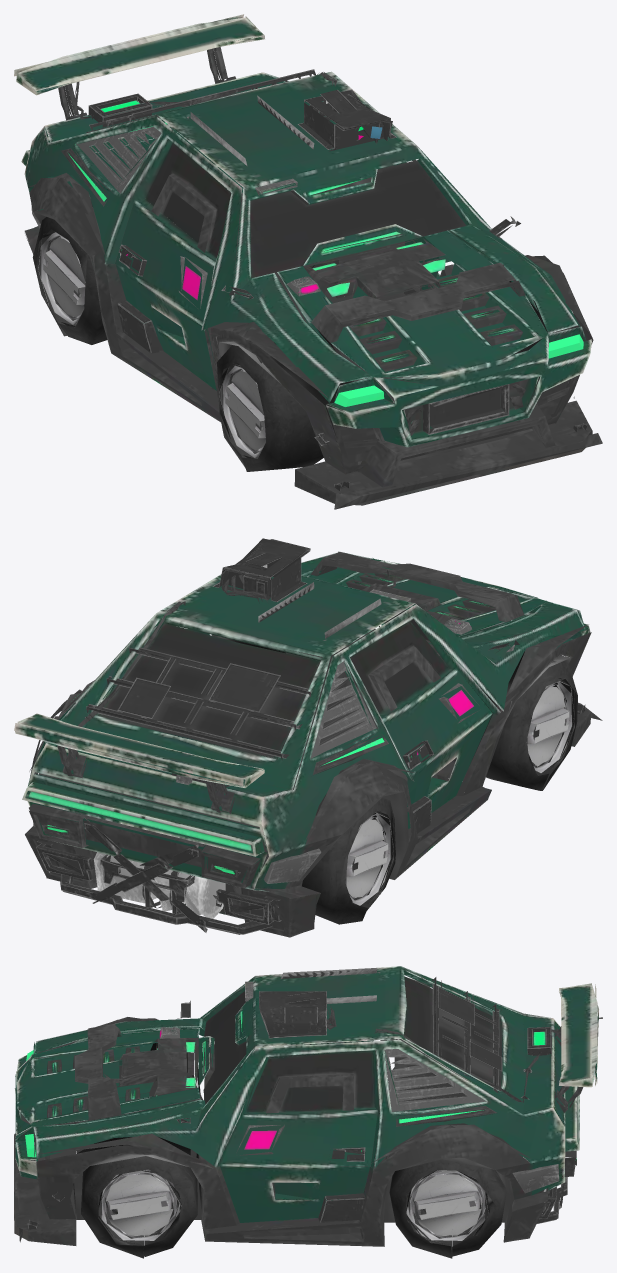
Rendered from green-bug-lite.glb.
The picture shows the model from 3 angles, top to bottom: view 1: azimuth 30°, elevation 25°; view 2: azimuth 150°, elevation 25°; view 3: azimuth 270°, elevation 25°; orthographic projection. The views are drawn at different scales.
Parts seen in each view (by area): view 1: Circle.001_MatWheel_0; view 2: Circle.001_MatWheel_0; view 3: Circle.001_MatWheel_0.
Boxes of the visible parts, <box> form: Circle.001_MatWheel_0: <box>14,14,602,509</box>; Circle.001_MatWheel_0: <box>14,538,602,937</box>; Circle.001_MatWheel_0: <box>14,966,602,1258</box>.
Size of the model in its own units: 1.97 by 1.48 by 3.6.
Materials: 3 (3 with a texture image).
